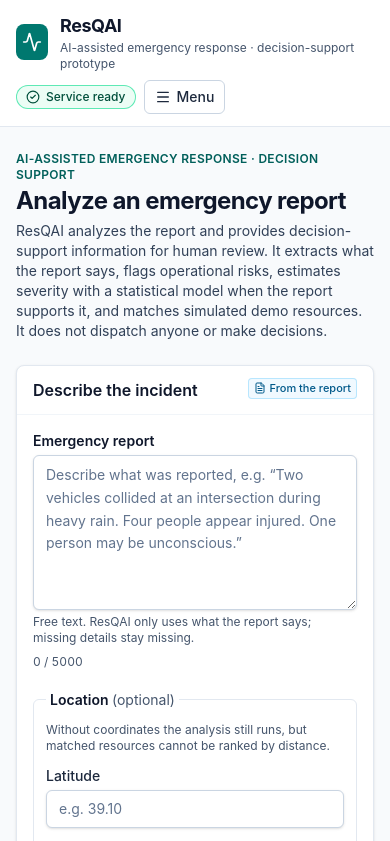
Navigation and layout › has a menu button that toggles the mobile navigation and exposes its state
This screenshot has width=390, height=841.
Click the button "Menu" at (184, 97), box top-left (144, 80), bottom-right (225, 114)
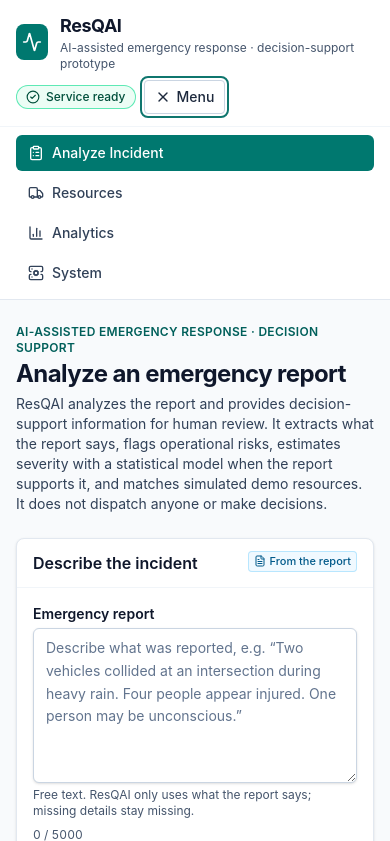
Check: the button "Menu" is expanded, box top-left (144, 80), bottom-right (225, 114)
Click the link "Resources" at (75, 192), box top-left (28, 184), bottom-right (122, 201)
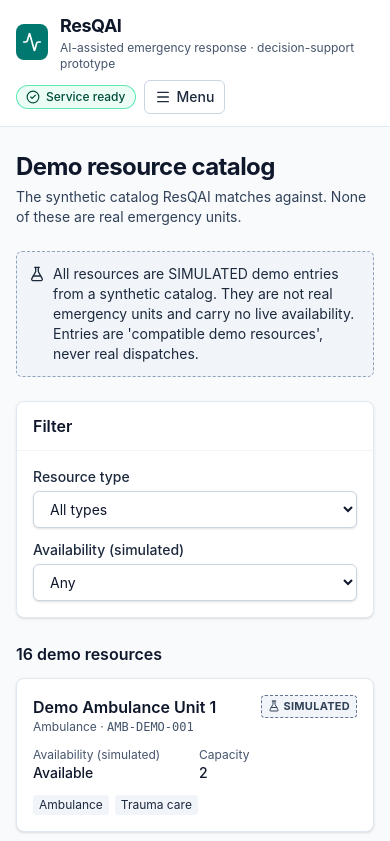
Check: the button "Menu" is collapsed, box top-left (144, 80), bottom-right (225, 114)
